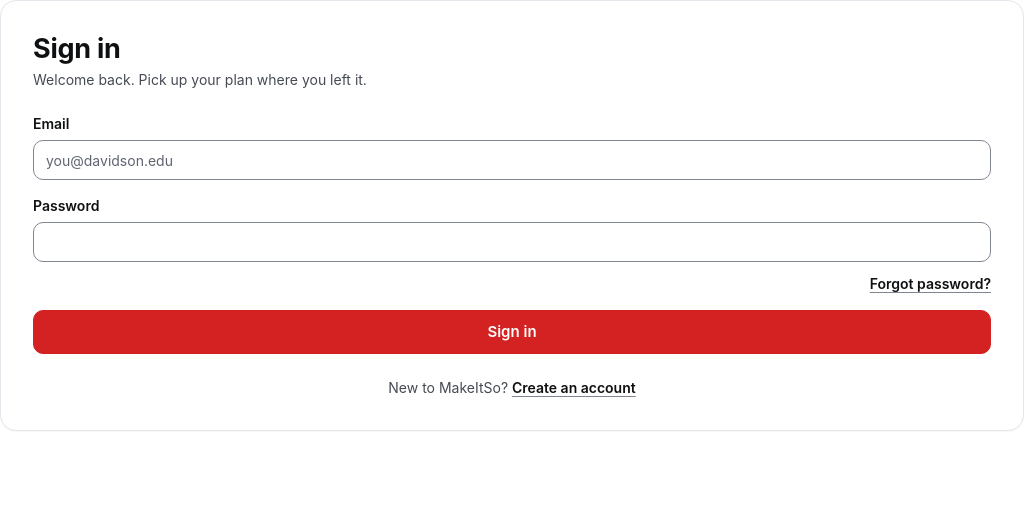
LoginForm › shows one message for wrong credentials, and the server's refusal text
The image size is (1024, 506).
In the field labelled "Email": (512, 160) [33, 140, 991, 180], type "casey@davidson.edu"
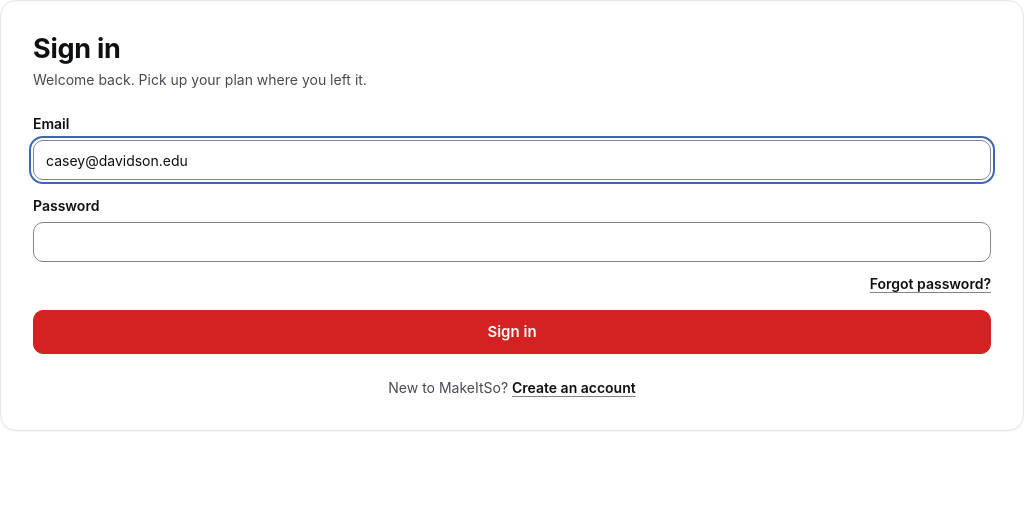
In the password field labelled "Password": (512, 242) [33, 222, 991, 262], type "wrong"
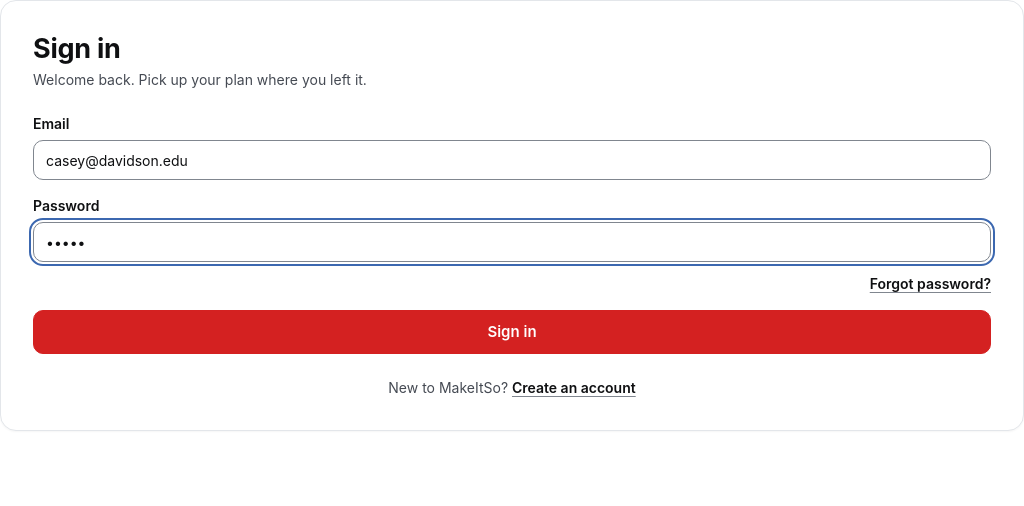
Click the button "Sign in": (512, 332) [33, 310, 991, 354]
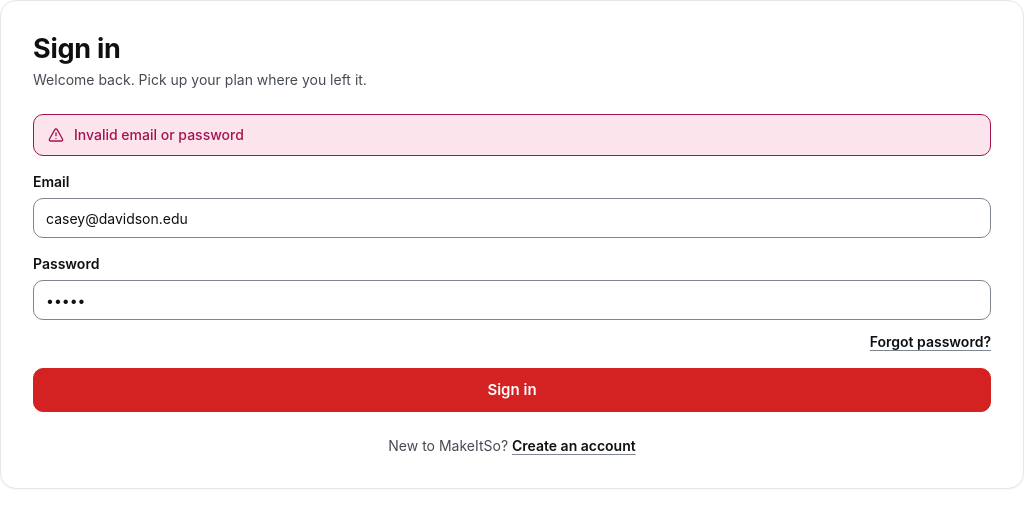
Expected: the message reads "Invalid email or password", [74, 126, 244, 143]
Click the button "Sign in": (512, 390) [33, 368, 991, 412]
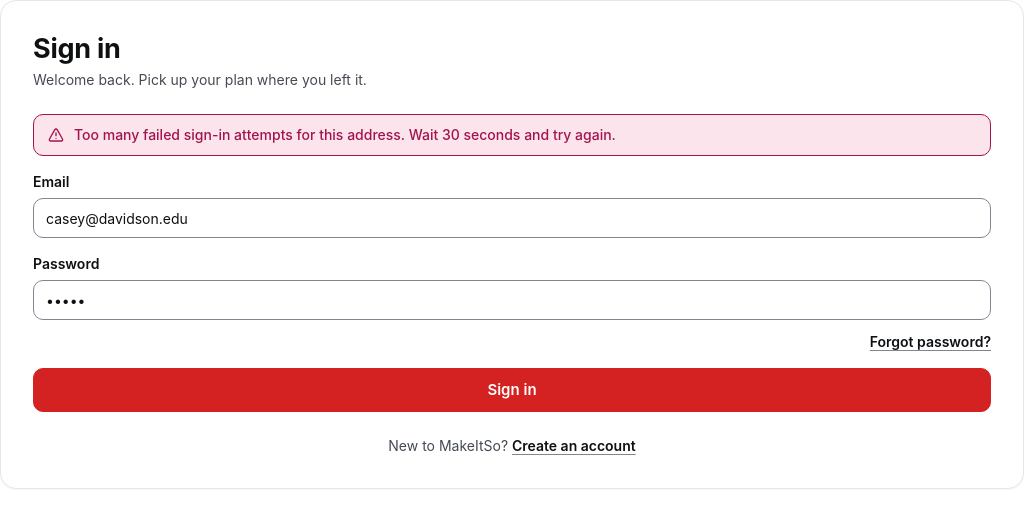
Expected: the message shows "Wait 30 seconds", [74, 126, 616, 143]
